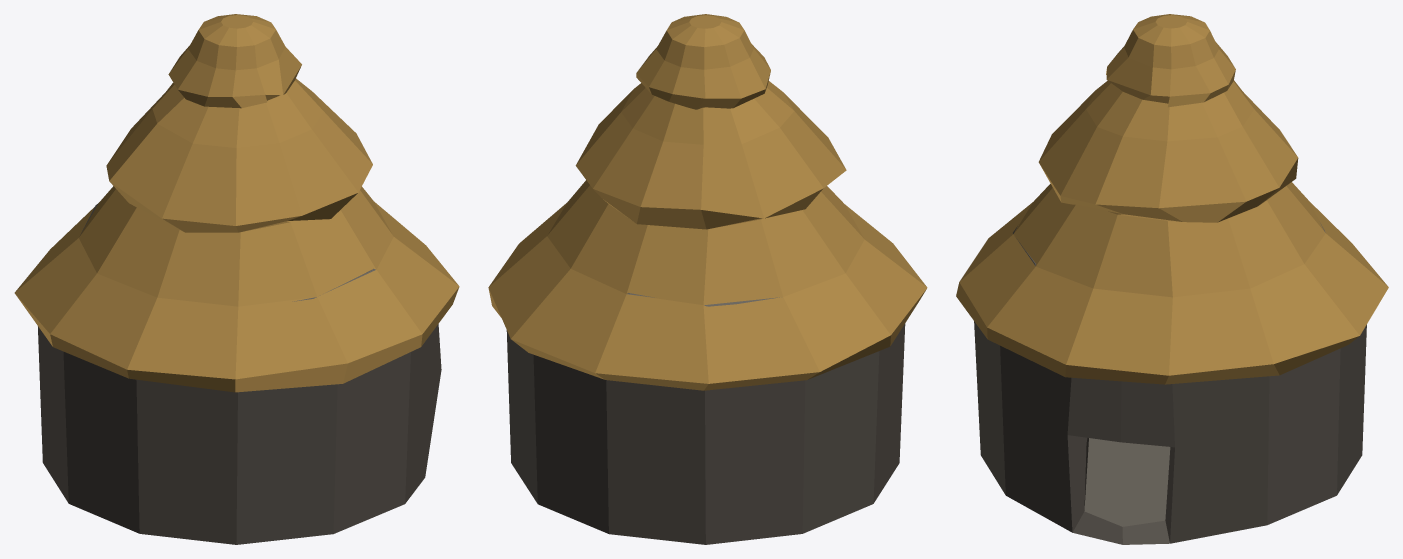
The model's file is forest_people_house_06.fbx.
3 views of the same model, side by side, from view 1: azimuth 30°, elevation 25°; view 2: azimuth 150°, elevation 25°; view 3: azimuth 270°, elevation 25° (orthographic).
Visible parts, largest first — view 1: Cylinder; view 2: Cylinder; view 3: Cylinder.
Part boxes in pixels (x1,y1,x2,y2): Cylinder: [14, 14, 459, 544]; Cylinder: [488, 14, 927, 544]; Cylinder: [956, 14, 1388, 544].
Size of the model in its own units: 410 by 479 by 418.
